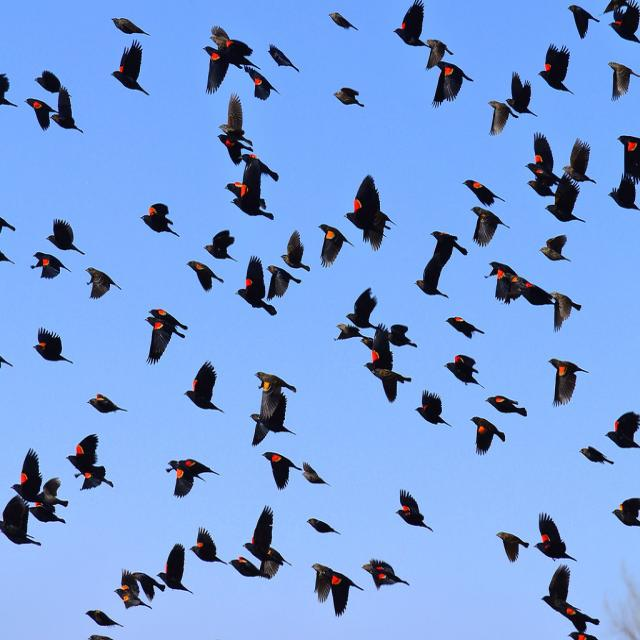bird: (241, 506, 294, 582), (224, 156, 280, 223), (348, 178, 398, 250), (414, 234, 468, 300), (251, 374, 297, 448), (364, 339, 414, 405), (204, 41, 257, 100), (311, 565, 364, 614), (216, 94, 252, 162), (543, 175, 589, 228), (236, 254, 273, 319), (112, 40, 151, 97), (345, 286, 389, 336), (166, 459, 220, 499), (145, 316, 190, 363), (186, 361, 225, 415), (536, 515, 580, 561), (0, 493, 38, 546), (550, 358, 591, 406), (505, 273, 552, 313), (157, 546, 194, 596), (433, 64, 477, 106), (540, 46, 576, 96), (11, 448, 45, 500), (264, 260, 302, 306), (526, 132, 563, 179), (47, 90, 84, 136), (470, 209, 510, 251), (33, 326, 75, 366), (548, 293, 586, 337), (394, 2, 430, 48), (490, 98, 529, 140), (488, 259, 522, 307), (606, 172, 640, 220), (115, 568, 152, 612), (608, 132, 640, 182), (542, 566, 574, 616), (45, 216, 86, 255), (364, 559, 411, 593), (319, 225, 356, 268), (399, 489, 436, 532), (506, 75, 540, 121), (566, 140, 598, 188), (560, 604, 605, 637), (607, 0, 640, 45), (263, 453, 301, 492), (190, 528, 227, 566), (143, 203, 180, 239), (417, 389, 452, 427), (606, 60, 638, 101), (524, 165, 557, 204), (472, 421, 508, 456), (445, 353, 481, 388), (25, 502, 67, 532), (606, 411, 640, 448), (245, 67, 280, 102), (462, 181, 509, 207), (189, 261, 227, 293), (28, 251, 68, 281), (86, 268, 121, 302), (24, 98, 56, 135), (281, 230, 309, 272), (227, 554, 268, 582), (444, 315, 486, 342), (67, 467, 116, 490), (568, 3, 599, 38), (66, 434, 102, 464), (498, 532, 530, 565), (266, 43, 300, 74), (39, 473, 69, 508), (486, 396, 529, 420), (422, 40, 456, 69), (130, 569, 166, 596), (612, 494, 640, 528), (207, 230, 238, 260), (541, 234, 572, 264), (86, 394, 127, 416), (33, 69, 70, 93), (147, 307, 189, 328), (110, 16, 150, 38), (88, 609, 124, 632), (389, 322, 418, 350), (328, 11, 361, 34), (581, 447, 617, 468), (333, 87, 365, 109), (1, 68, 16, 114), (1, 214, 18, 253), (301, 461, 327, 486), (307, 520, 339, 539), (337, 325, 371, 342), (0, 348, 16, 382)
